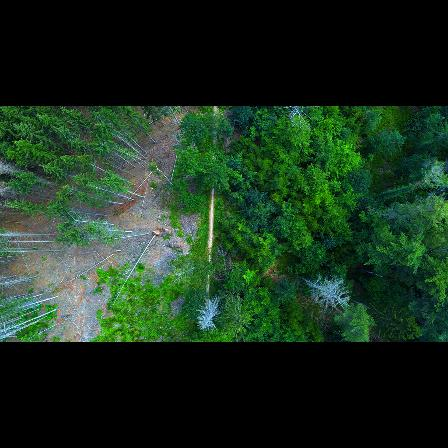Dead: (301, 273, 354, 310), (195, 290, 223, 332)
